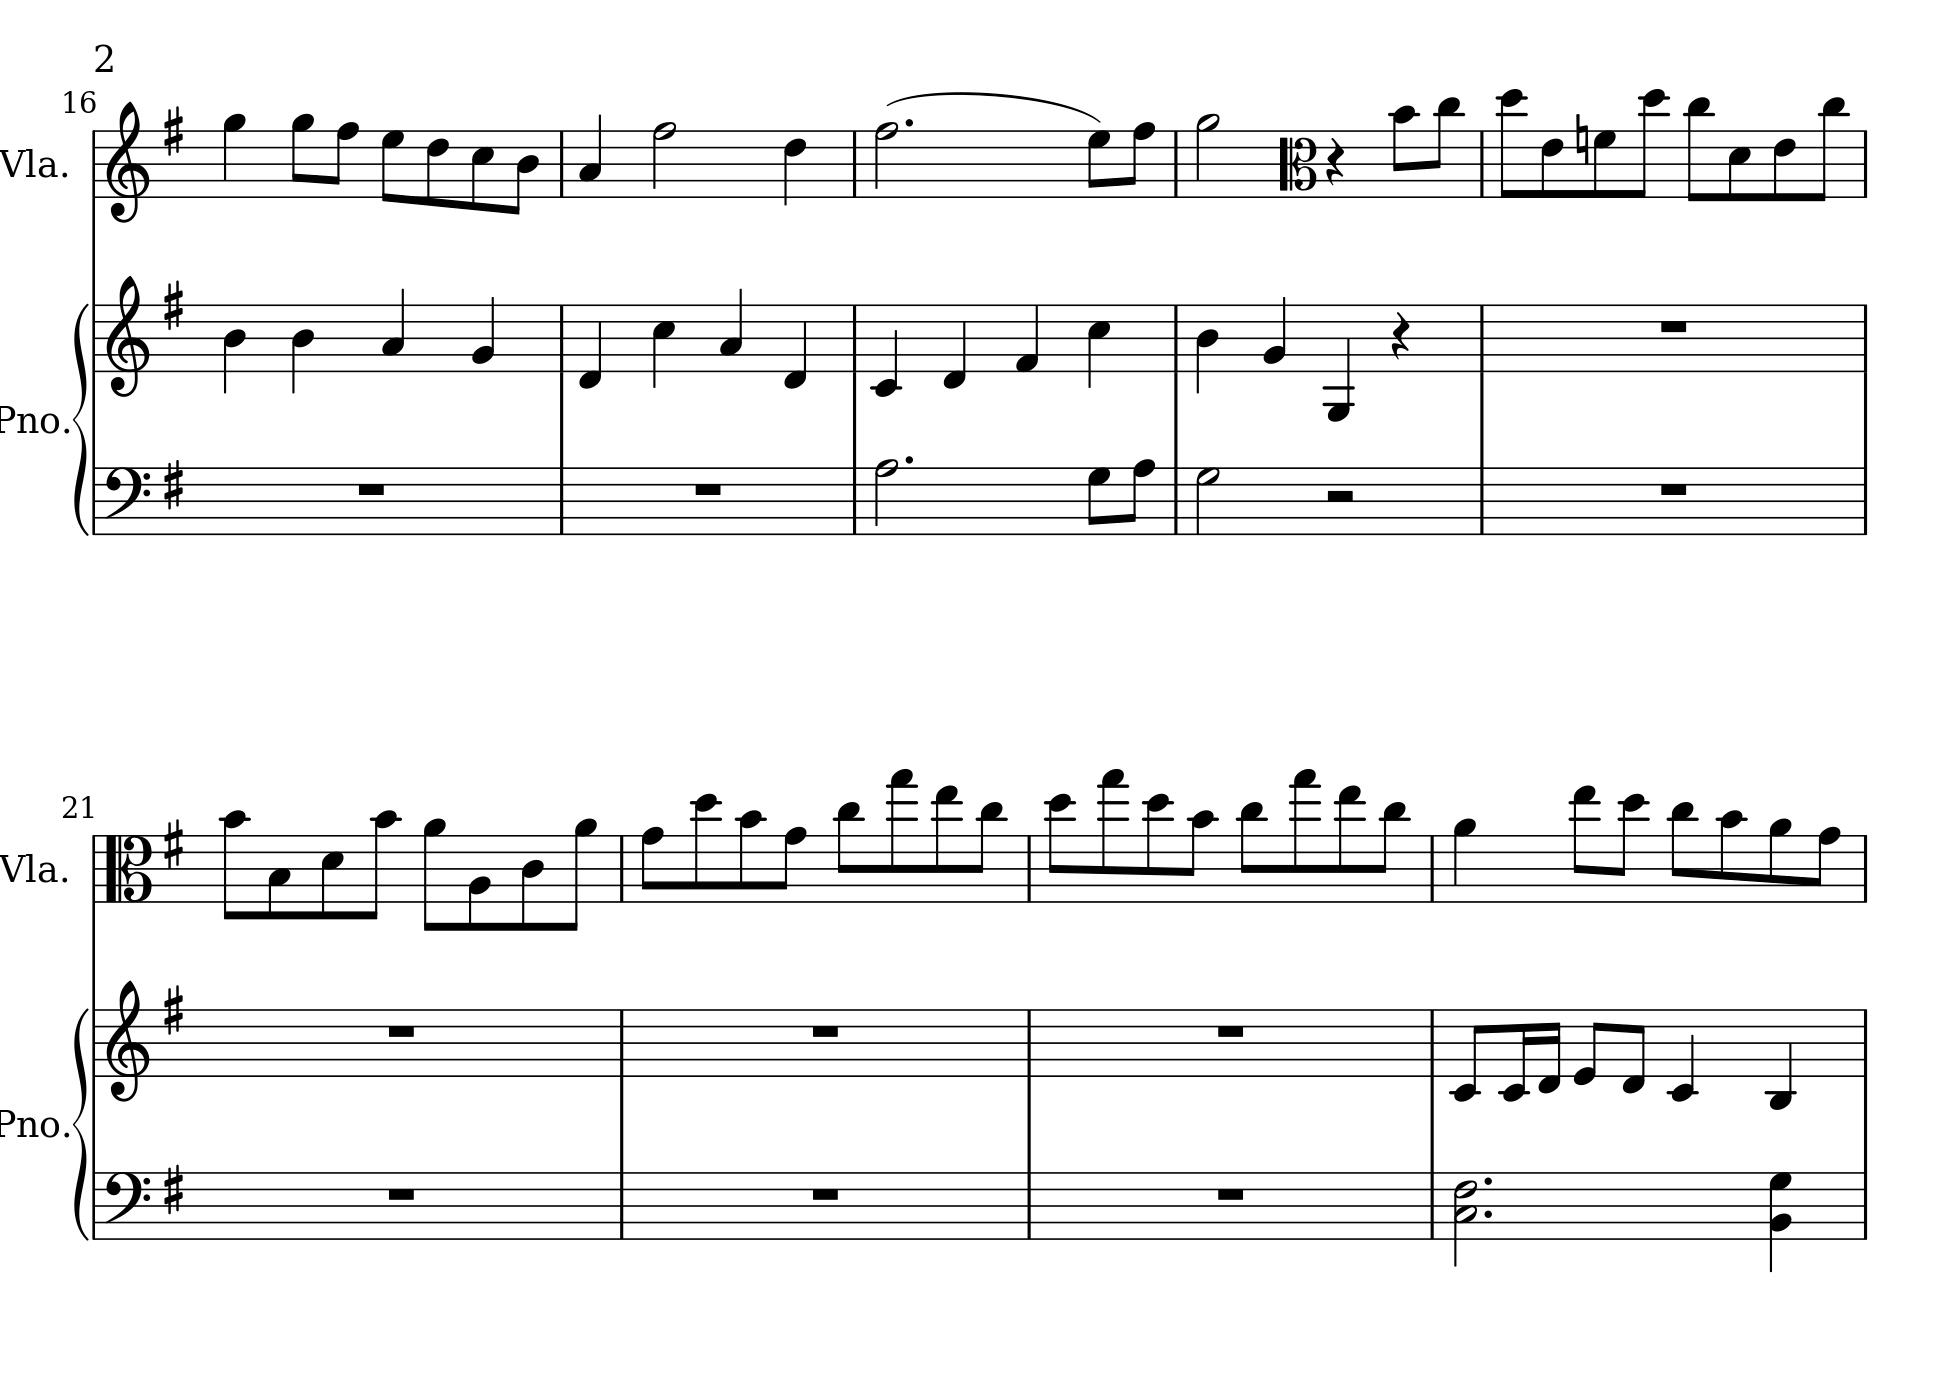1: (61, 87, 76, 115), (79, 793, 94, 820)
16_-1: (1536, 1006, 1563, 1093)
16_-2: (1498, 1006, 1531, 1102)
2: (91, 40, 114, 73), (58, 793, 79, 820)
2_3_6: (1452, 1170, 1479, 1267)
2_7: (1194, 465, 1221, 535)
2_8: (649, 118, 676, 199), (871, 118, 898, 199), (871, 456, 898, 535)
2_9: (1194, 112, 1221, 199)
4_-1: (940, 301, 967, 390), (781, 301, 807, 390), (577, 301, 601, 390)
4_-2: (1668, 1006, 1698, 1102), (871, 301, 898, 396)
4_-3: (1765, 1003, 1795, 1111)
4_-5: (1324, 301, 1353, 421)
4_1: (1014, 301, 1041, 373)
4_2: (1261, 294, 1288, 373), (469, 295, 496, 373)
4_2_7: (1770, 1170, 1794, 1270)
4_3: (379, 286, 406, 373), (576, 112, 601, 198), (717, 286, 742, 372)
4_4: (220, 301, 247, 394), (289, 301, 316, 394), (1194, 301, 1221, 394)
4_5: (649, 301, 676, 388), (1086, 301, 1111, 388)
4_6: (781, 127, 805, 207)
4_9: (1450, 816, 1479, 904), (220, 111, 246, 199)
6: (79, 87, 97, 115)
8_-1: (1620, 1006, 1647, 1095)
8_-2: (1449, 1006, 1486, 1101)
8_0: (1572, 1006, 1605, 1084)
8_10: (360, 807, 400, 921), (220, 808, 250, 922), (1185, 808, 1218, 904), (1389, 102, 1416, 198), (736, 808, 763, 904), (1717, 808, 1744, 903)
8_11: (1810, 94, 1849, 202), (1428, 94, 1462, 199), (972, 799, 1005, 904), (1374, 799, 1407, 904), (1684, 94, 1714, 204), (1236, 799, 1266, 904), (1668, 798, 1696, 904), (834, 799, 862, 904)
8_12: (1629, 85, 1668, 199), (1614, 790, 1647, 904), (690, 790, 720, 904), (1143, 790, 1173, 904), (1497, 87, 1527, 199), (1045, 790, 1074, 904)
8_13: (1569, 783, 1599, 903), (1335, 783, 1363, 904), (931, 784, 960, 904)
8_15: (1288, 766, 1320, 903), (886, 766, 916, 903), (1098, 766, 1128, 903)
8_2: (465, 832, 492, 933)
8_3: (265, 832, 292, 921)
8_4: (517, 832, 544, 934), (508, 129, 538, 217)
8_5: (318, 832, 343, 921), (1725, 127, 1752, 202), (469, 127, 493, 211)
8_6: (1770, 127, 1797, 202), (424, 127, 448, 207), (1539, 127, 1564, 199)
8_7: (379, 127, 405, 202), (1591, 127, 1617, 199), (1086, 463, 1111, 535), (1086, 127, 1111, 198)
8_8: (1809, 823, 1842, 904), (325, 120, 358, 199), (1123, 120, 1156, 199), (775, 823, 807, 904), (1123, 457, 1155, 535), (639, 823, 666, 904)
8_9: (559, 814, 598, 931), (420, 814, 447, 933), (1767, 816, 1792, 904), (289, 112, 313, 198)
Brace: (70, 1006, 90, 1240), (70, 301, 90, 534)
Cclef: (102, 832, 153, 904), (1276, 127, 1317, 198)
Fclef: (100, 463, 151, 538), (100, 1168, 153, 1228)
Gclef: (103, 271, 150, 397), (103, 99, 150, 223), (103, 976, 148, 1102)
Natural: (1573, 112, 1588, 166)
Pno: (1, 400, 58, 438), (1, 1105, 58, 1140)
Rests1: (382, 1018, 418, 1041), (1656, 315, 1692, 336), (807, 1018, 843, 1039), (382, 1182, 418, 1203), (808, 1182, 843, 1203), (1656, 477, 1690, 496), (1213, 1020, 1248, 1039), (1215, 1183, 1249, 1203), (354, 478, 388, 496), (691, 478, 724, 496)
Rests2: (1320, 486, 1357, 505)
Rests4: (1389, 309, 1411, 361), (1324, 136, 1347, 187)
Sharp: (159, 1159, 186, 1216), (160, 456, 186, 511), (159, 981, 184, 1035), (160, 103, 184, 157), (160, 816, 184, 870), (160, 277, 184, 330)
Single_barline: (612, 1008, 631, 1077), (84, 834, 103, 901), (1471, 304, 1491, 370), (1020, 834, 1038, 901), (553, 304, 571, 370), (1857, 832, 1873, 901), (615, 834, 631, 901), (1425, 834, 1441, 901), (613, 1171, 630, 1239), (1021, 1171, 1038, 1239), (553, 130, 570, 196), (847, 130, 864, 196), (1168, 304, 1185, 370), (1168, 466, 1185, 532), (553, 468, 570, 534), (1021, 1009, 1038, 1075), (1857, 1171, 1873, 1237), (1168, 130, 1185, 195), (1858, 129, 1873, 199), (1858, 1008, 1873, 1077), (847, 304, 862, 372), (1474, 466, 1489, 534), (1857, 466, 1872, 534), (1474, 130, 1489, 196), (847, 466, 862, 532), (87, 1009, 102, 1075), (1425, 1009, 1440, 1075), (1425, 1171, 1440, 1237), (87, 129, 100, 198), (1860, 303, 1872, 373), (88, 304, 100, 370), (88, 1171, 100, 1237), (88, 468, 100, 532)
Slur: (883, 91, 1101, 123)
Vla: (1, 847, 60, 892), (1, 142, 58, 184)
dot: (901, 451, 915, 466), (903, 115, 915, 129), (1482, 1173, 1494, 1186), (1482, 1207, 1495, 1219)
